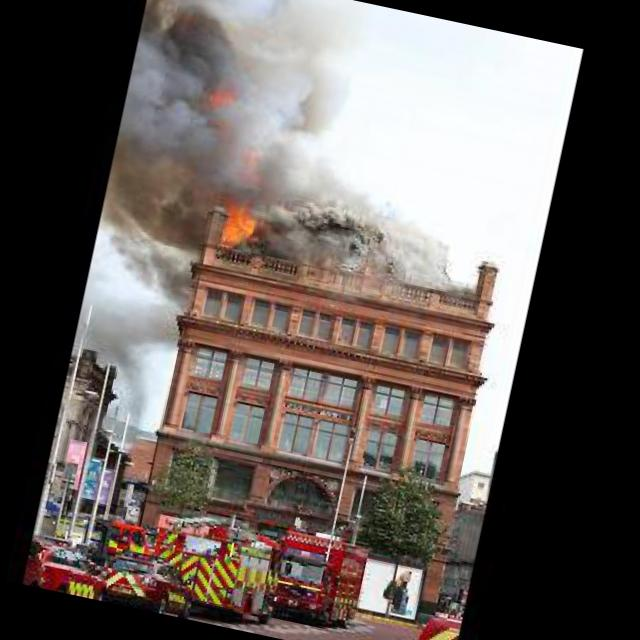fire: (210, 192, 274, 257)
smoke: (110, 0, 371, 222), (67, 170, 222, 416), (268, 147, 497, 304)
